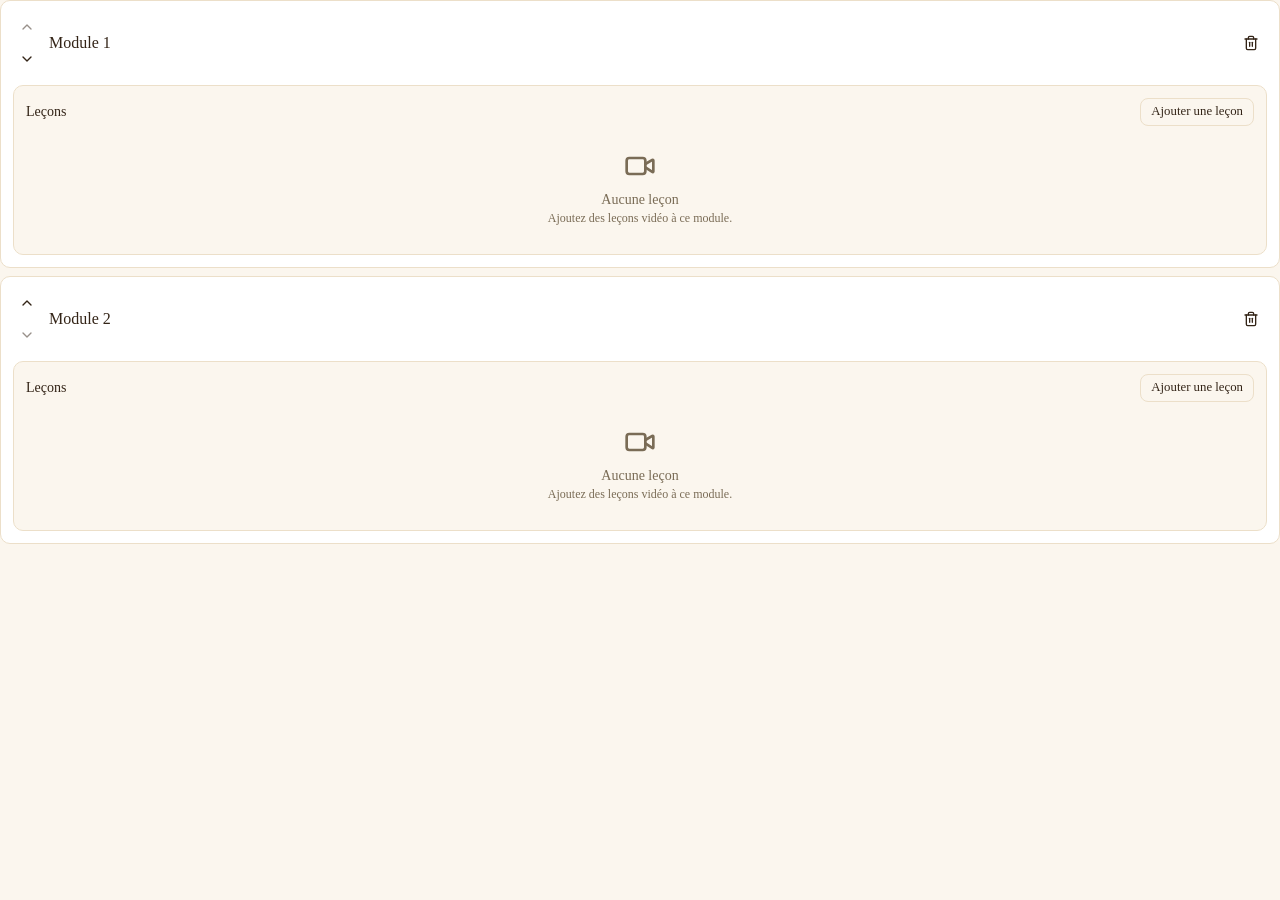
Test: ModuleList error handling › restores a module whose deletion failed
The width and height of the screenshot is (1280, 900).
Click the 1st button named "Supprimer le module": (1251, 43) [1235,27,1267,59]
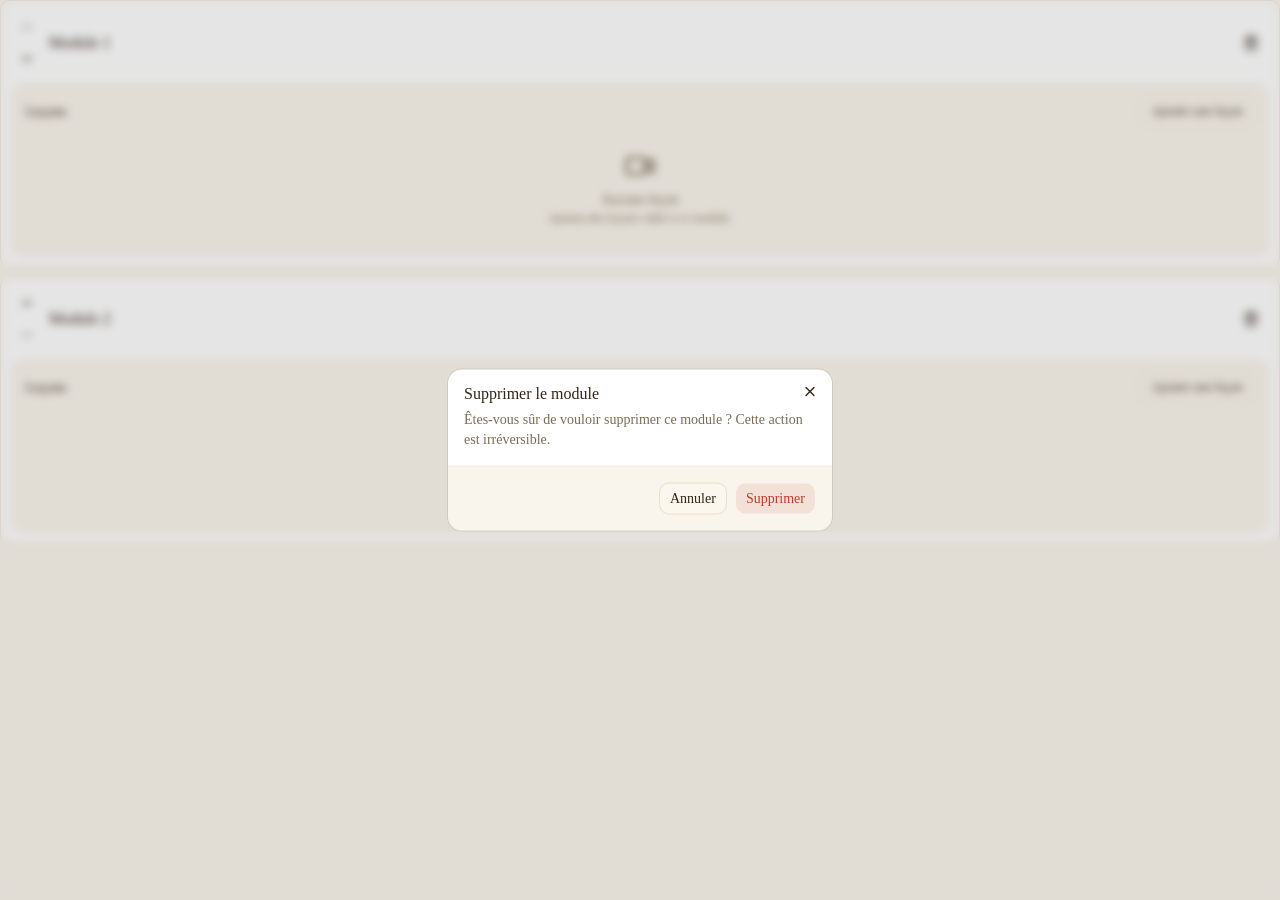
Click the button "Supprimer": (775, 498) [735,482,816,514]
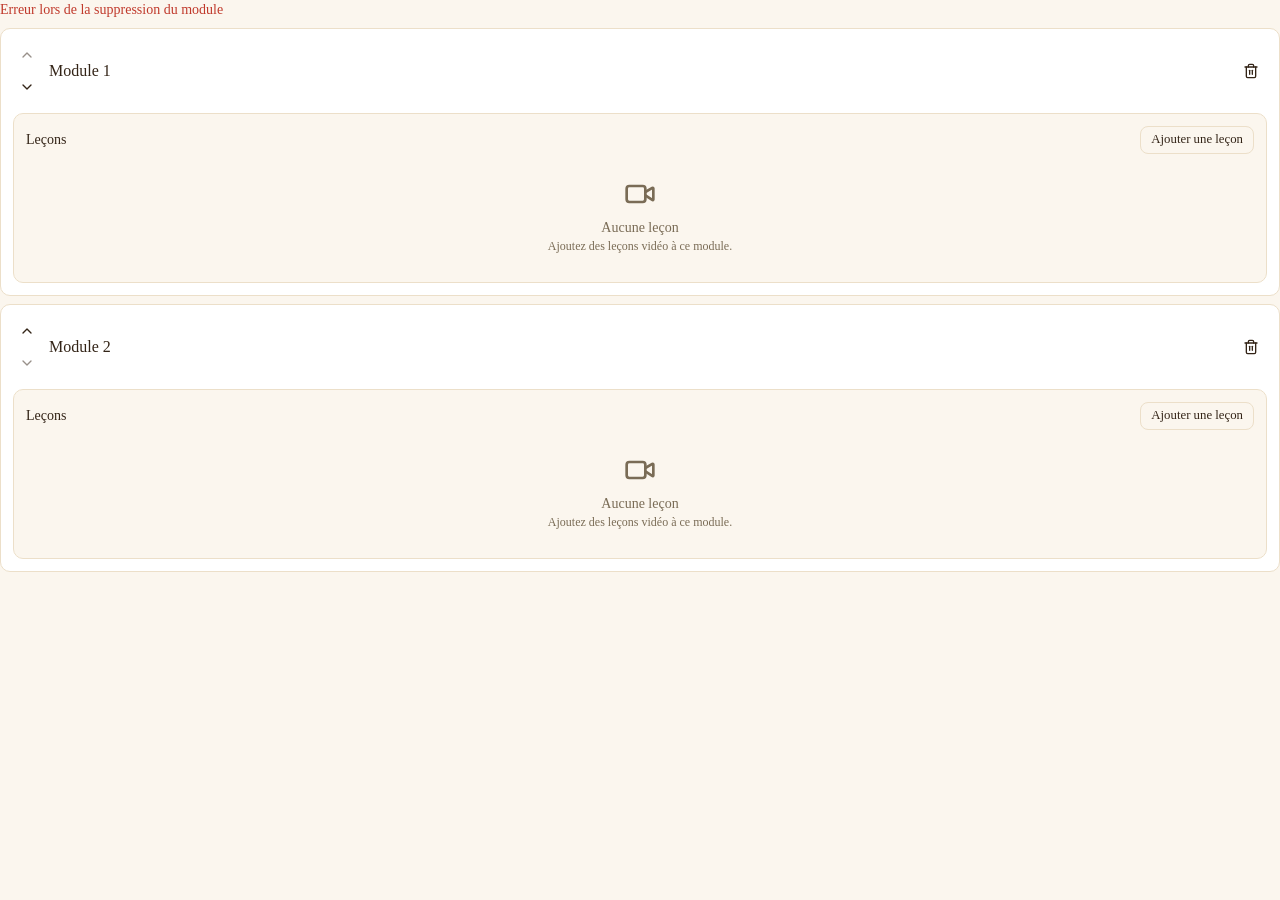
Check: the button "Module 1" is shown, box [49,59,1227,83]
Check: the message shows "suppression", box [0,2,223,17]
